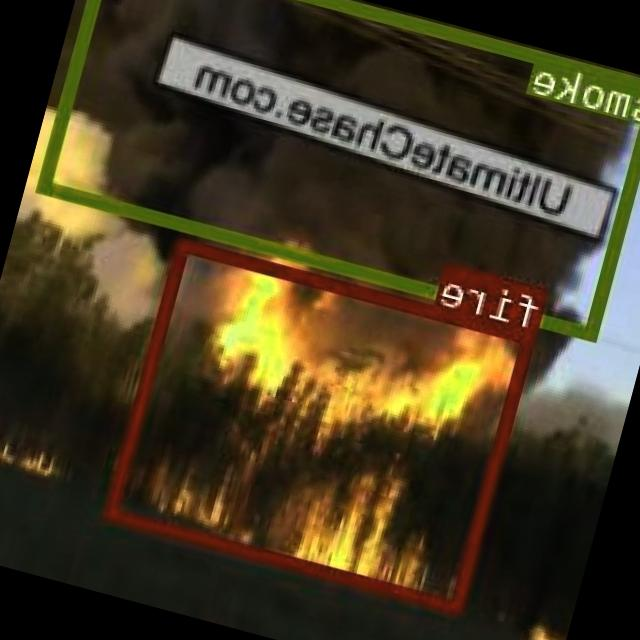fire: (107, 236, 539, 614)
smoke: (39, 0, 640, 338)
